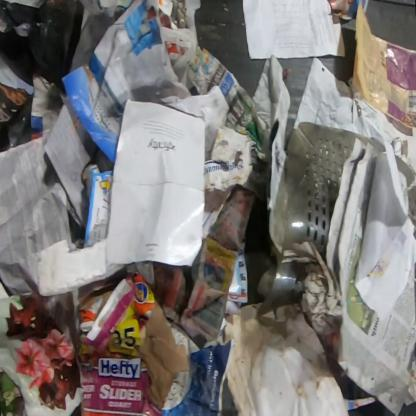cardboard: (203, 54, 292, 211), (75, 274, 163, 415), (135, 304, 191, 410), (78, 286, 116, 334), (133, 274, 160, 320)
rigid_plastic: (282, 121, 376, 254), (256, 260, 310, 322)
soft_plastic: (351, 0, 415, 131), (0, 0, 84, 96), (5, 93, 34, 148)
